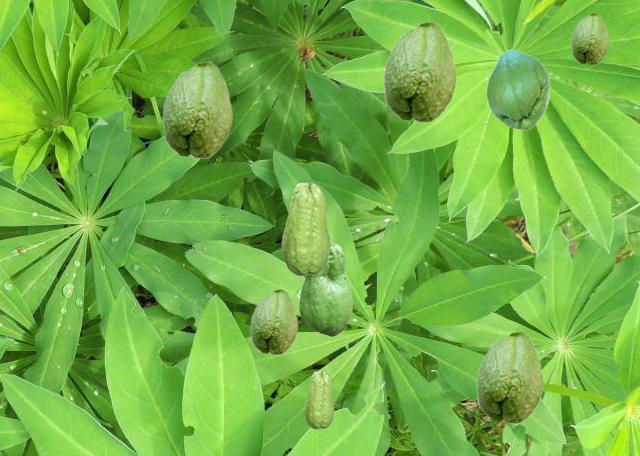sayote: (383, 20, 456, 122), (162, 60, 232, 158), (476, 330, 543, 423), (486, 49, 549, 129), (299, 242, 351, 335), (281, 182, 329, 275), (250, 288, 297, 354), (571, 12, 608, 64), (304, 371, 333, 428)
